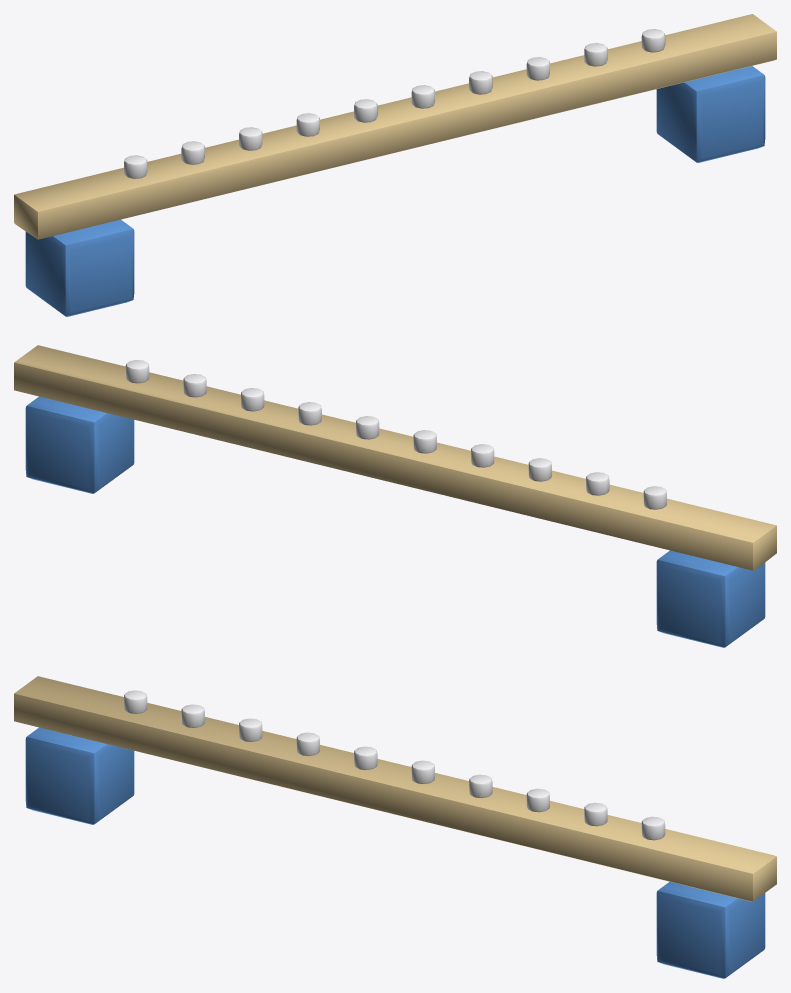
Rendered from ELE-QDR-008_lod1.glb.
3 renders of one model, top to bottom at view 1: azimuth 30°, elevation 25°; view 2: azimuth 150°, elevation 25°; view 3: azimuth 330°, elevation 25°, orthographic.
Parts seen in each view (by area): view 1: ELE-QDR-008_barra, ELE-QDR-008_isolador-1, ELE-QDR-008_isolador1; view 2: ELE-QDR-008_barra, ELE-QDR-008_isolador-1, ELE-QDR-008_isolador1; view 3: ELE-QDR-008_barra, ELE-QDR-008_isolador1, ELE-QDR-008_isolador-1.
Part boxes in pixels (x1=…): ELE-QDR-008_barra: x1=14, y1=14, x2=776, y2=239; ELE-QDR-008_isolador-1: x1=25, y1=219, x2=134, y2=316; ELE-QDR-008_isolador1: x1=656, y1=66, x2=765, y2=162; ELE-QDR-008_barra: x1=14, y1=345, x2=776, y2=570; ELE-QDR-008_isolador-1: x1=656, y1=550, x2=765, y2=647; ELE-QDR-008_isolador1: x1=25, y1=396, x2=134, y2=493; ELE-QDR-008_barra: x1=14, y1=676, x2=776, y2=901; ELE-QDR-008_isolador1: x1=656, y1=882, x2=765, y2=978; ELE-QDR-008_isolador-1: x1=25, y1=727, x2=134, y2=824.
Size of the model in its own units: 0.1993 by 0.032 by 0.02.
